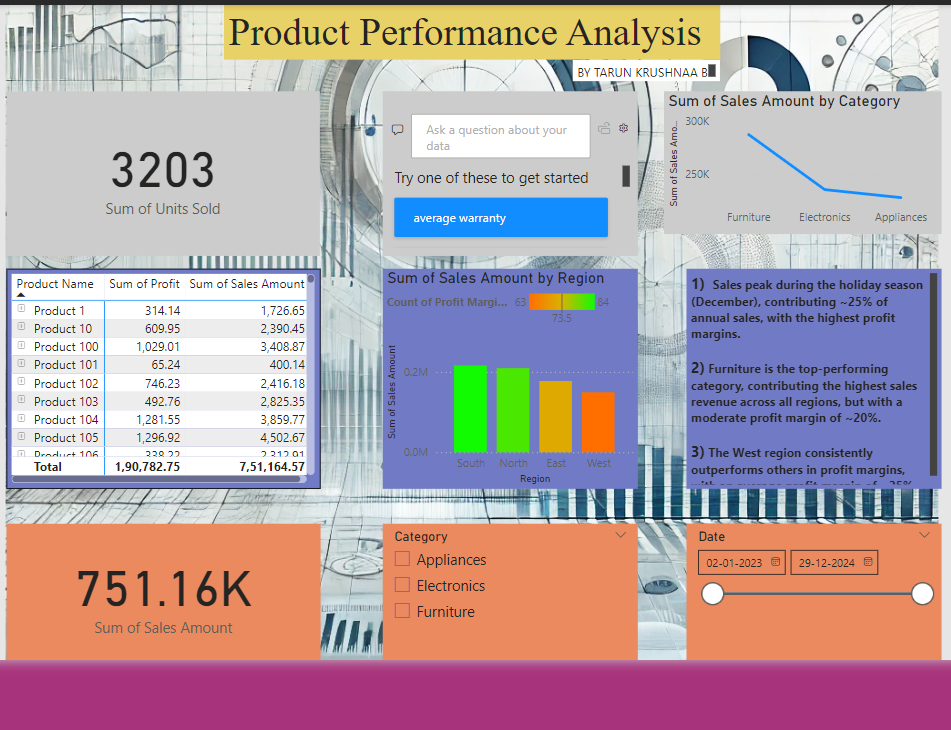

Layout of this report page (visuals, bound fields, positions):
{"tool":"powerbi","page":{"name":"Page 1","canvas":[1280,720],"ordinal":0},"visuals":[{"type":"clusteredColumnChart","fields":{"Category":["Product_Performance_Dataset.Region"],"Y":["Sum(Product_Performance_Dataset.Sales Amount)"]},"box":[542,289.5,279.9,241.5],"z":0},{"type":"pivotTable","fields":{"Rows":["Product_Performance_Dataset.Product Name","Product_Performance_Dataset.Category"],"Values":["Sum(Product_Performance_Dataset.Profit)","Sum(Product_Performance_Dataset.Sales Amount)"]},"box":[129,289.5,344.4,241.5],"z":1000},{"type":"card","fields":{"Values":["Sum(Product_Performance_Dataset.Sales Amount)"]},"box":[129,569.5,344.4,150.9],"z":2000},{"type":"slicer","fields":{"Values":["Product_Performance_Dataset.Category"]},"box":[542,569.5,279.9,150.9],"z":3000},{"type":"slicer","fields":{"Values":["Product_Performance_Dataset.Date"]},"box":[875.5,569.5,279.9,150.9],"z":4000},{"type":"textbox","box":[367.8,0,544.8,60.4],"z":5000},{"type":"textbox","box":[875.5,289.5,279.9,241.5],"z":6000},{"type":"lineChart","fields":{"Y":["Sum(Product_Performance_Dataset.Sales Amount)"],"Category":["Product_Performance_Dataset.Category"]},"box":[850.8,94.7,304.6,156.4],"z":7000},{"type":"textbox","box":[750.6,60.4,161.9,23.3],"z":8000},{"type":"qnaVisual","box":[542,94.7,279.9,181.1],"z":9000},{"type":"card","fields":{"Values":["Sum(Product_Performance_Dataset.Units Sold)"]},"box":[129,95,344,181],"z":10000}]}

Visuals, with their boxes on the page's 1280x720 design canvas (x1, y1, x2, y2). These are canvas units, not pixel positions in the 951x730 screenshot, which may show the page scaled, cropped or inside an application window:
clusteredColumnChart - Product_Performance_Dataset.Region x Sum(Product_Performance_Dataset.Sales Amount): l=542, t=290, r=822, b=531
pivotTable - Product_Performance_Dataset.Product Name x Product_Performance_Dataset.Category: l=129, t=290, r=473, b=531
card - Sum(Product_Performance_Dataset.Sales Amount): l=129, t=570, r=473, b=720
slicer - Product_Performance_Dataset.Category: l=542, t=570, r=822, b=720
slicer - Product_Performance_Dataset.Date: l=876, t=570, r=1155, b=720
textbox: l=368, t=0, r=913, b=60
textbox: l=876, t=290, r=1155, b=531
lineChart - Sum(Product_Performance_Dataset.Sales Amount) x Product_Performance_Dataset.Category: l=851, t=95, r=1155, b=251
textbox: l=751, t=60, r=912, b=84
qnaVisual: l=542, t=95, r=822, b=276
card - Sum(Product_Performance_Dataset.Units Sold): l=129, t=95, r=473, b=276
